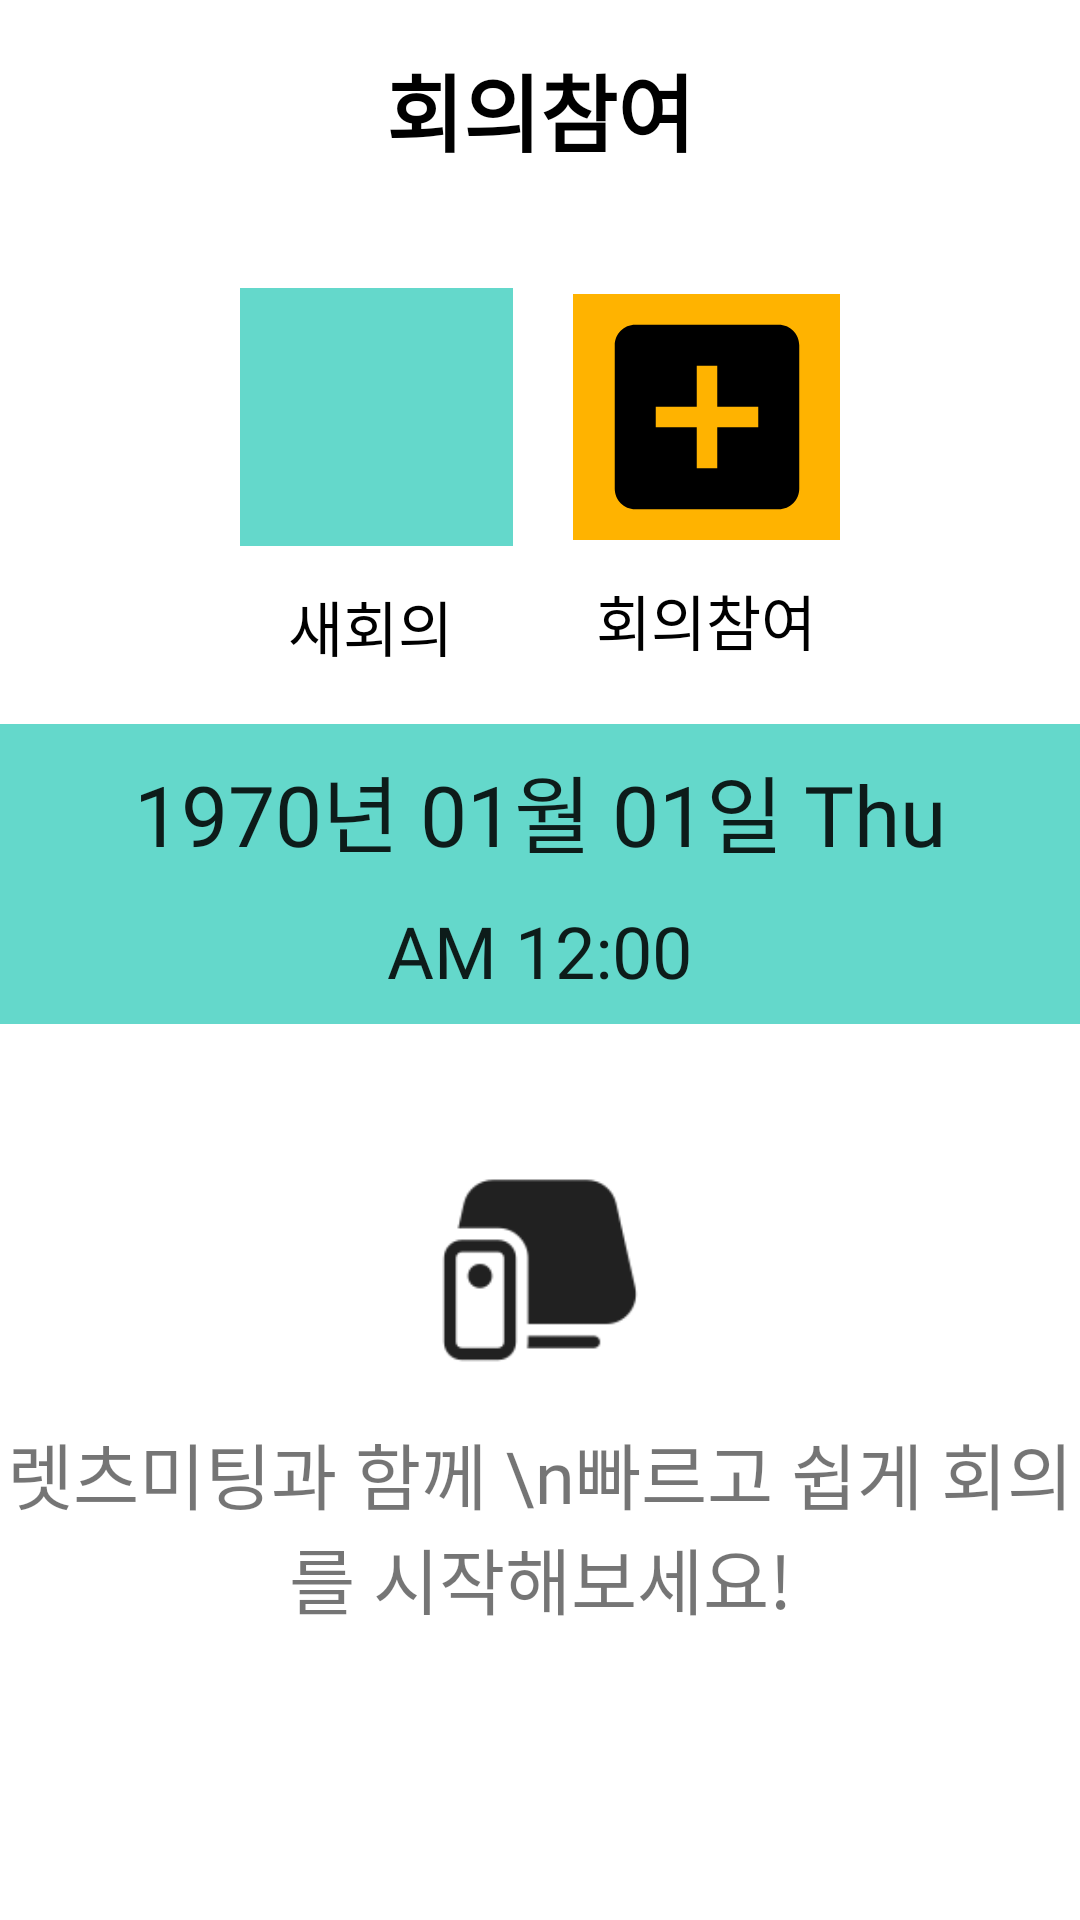

Icon click points for this 1080w x 1920h phone screenshot, format [x,y]:
add box: [706,417]
